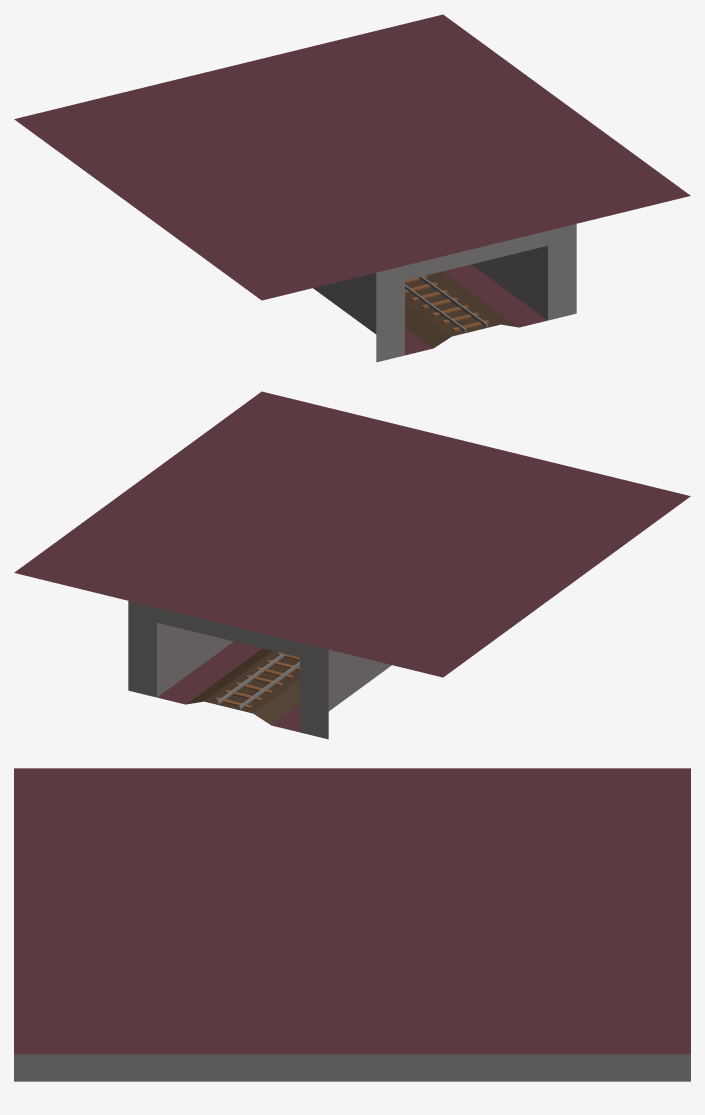
The model's file is tile-rail-tunnel-nb.fbx.
3 renders of one model, top to bottom at view 1: azimuth 30°, elevation 25°; view 2: azimuth 150°, elevation 25°; view 3: azimuth 270°, elevation 25°, orthographic. The views are drawn at different scales.
Parts seen in each view (by area): view 1: tile-rail-tunnel-nb; view 2: tile-rail-tunnel-nb; view 3: tile-rail-tunnel-nb.
Boxes of the visible parts, box(x1,y1,x2,y2) form: tile-rail-tunnel-nb: box(14, 14, 690, 362); tile-rail-tunnel-nb: box(14, 391, 690, 739); tile-rail-tunnel-nb: box(14, 768, 690, 1081).
Size of the model in its own units: 30 by 6 by 30.
